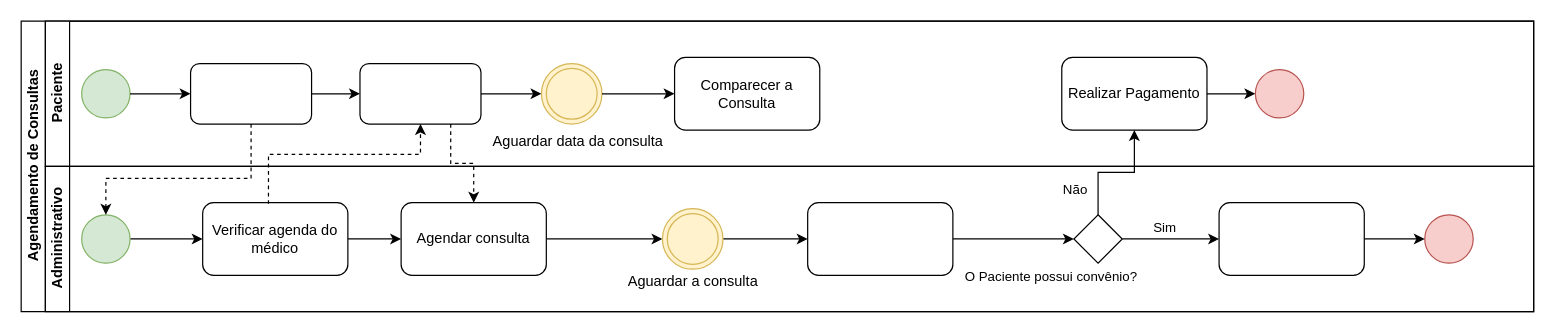
The diagram is 1555 pixels wide and 333 high, and some of its shapes have lost their labels. Here are the shapes that lost their labels. From the top down, the centre of each, then its label:
the point at 250,93: Solicitar consulta
the point at 420,93: Escolher uma data disponível
the point at 879,238: Emitir fatura para pagamento
the point at 1291,238: Enviar a fatura para o convênio
